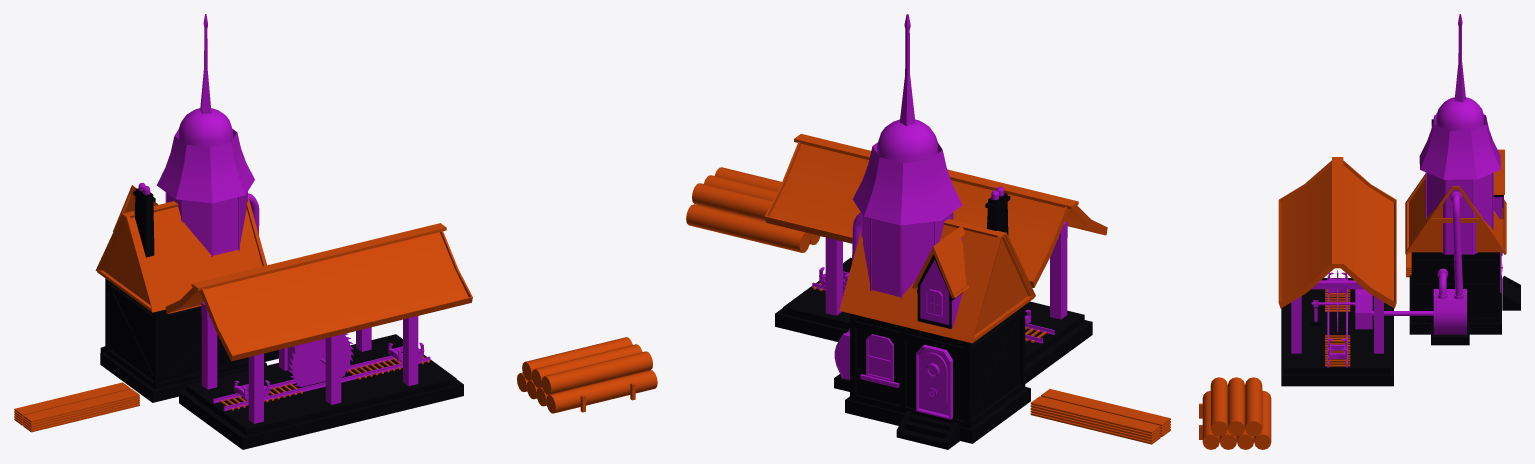
The picture shows the model from 3 angles, left to right: view 1: azimuth 30°, elevation 25°; view 2: azimuth 150°, elevation 25°; view 3: azimuth 270°, elevation 25°; orthographic projection. The views are drawn at different scales.
Parts seen in each view (by area): view 1: 3_low, Cube.055_low, Cube.072_low, Cube.080_low, Cylinder.071_low, Cube.056_low, Cylinder.042_low, Cube.054_low, Cube.019_low, Cylinder.079_low, Cube.077_low, Cylinder.030_low (+8 smaller); view 2: Cube.080_low, 3_low, Cylinder.071_low, Cube.072_low, Cylinder.079_low, Cube.019_low, Cube.055_low, Cylinder.042_low, Cylinder.030_low, Cube.056_low, Cube.051_low, Cube.054_low (+15 smaller); view 3: 3_low, Cube.055_low, Cylinder.071_low, Cube.080_low, Cylinder.079_low, Cylinder.042_low, Cube.072_low, Cube.077_low, Cube.054_low, Cylinder.030_low, Cylinder.060_low, Cube.071_low (+11 smaller).
Part boxes in pixels (x1,y1,x2,y2): 3_low: (173,232,468,354); Cube.055_low: (186,334,456,435); Cube.072_low: (99,206,262,308); Cube.080_low: (105,278,248,389); Cylinder.071_low: (156,108,254,203); Cube.056_low: (201,316,418,423); Cylinder.042_low: (522,337,652,394); Cube.054_low: (179,379,463,449); Cube.019_low: (14,382,139,432); Cylinder.079_low: (165,191,247,257); Cube.077_low: (165,230,472,361); Cylinder.030_low: (517,370,657,413); Cube.080_low: (850,305,1025,428); 3_low: (769,144,1096,280); Cylinder.071_low: (852,119,962,225); Cube.072_low: (845,225,1031,338); Cylinder.079_low: (861,212,953,298); Cube.019_low: (1030,389,1170,444); Cube.055_low: (783,257,1084,364); Cylinder.042_low: (692,167,781,221); Cylinder.030_low: (686,204,823,252); Cube.056_low: (825,237,1067,319); Cube.051_low: (839,219,1035,343); Cube.054_low: (775,308,1092,383); 3_low: (1281,165,1393,300); Cube.055_low: (1284,278,1390,373); Cylinder.071_low: (1419,97,1500,179); Cube.080_low: (1411,252,1499,322); Cylinder.079_low: (1425,172,1493,254); Cylinder.042_low: (1210,377,1262,436); Cube.072_low: (1409,179,1502,252); Cube.077_low: (1278,160,1396,308); Cube.054_low: (1281,307,1393,386); Cylinder.030_low: (1202,390,1271,449); Cylinder.060_low: (1433,289,1466,334); Cube.071_low: (1332,157,1343,266).
Bounding box in the file's own units: 259 × 168 × 160.
